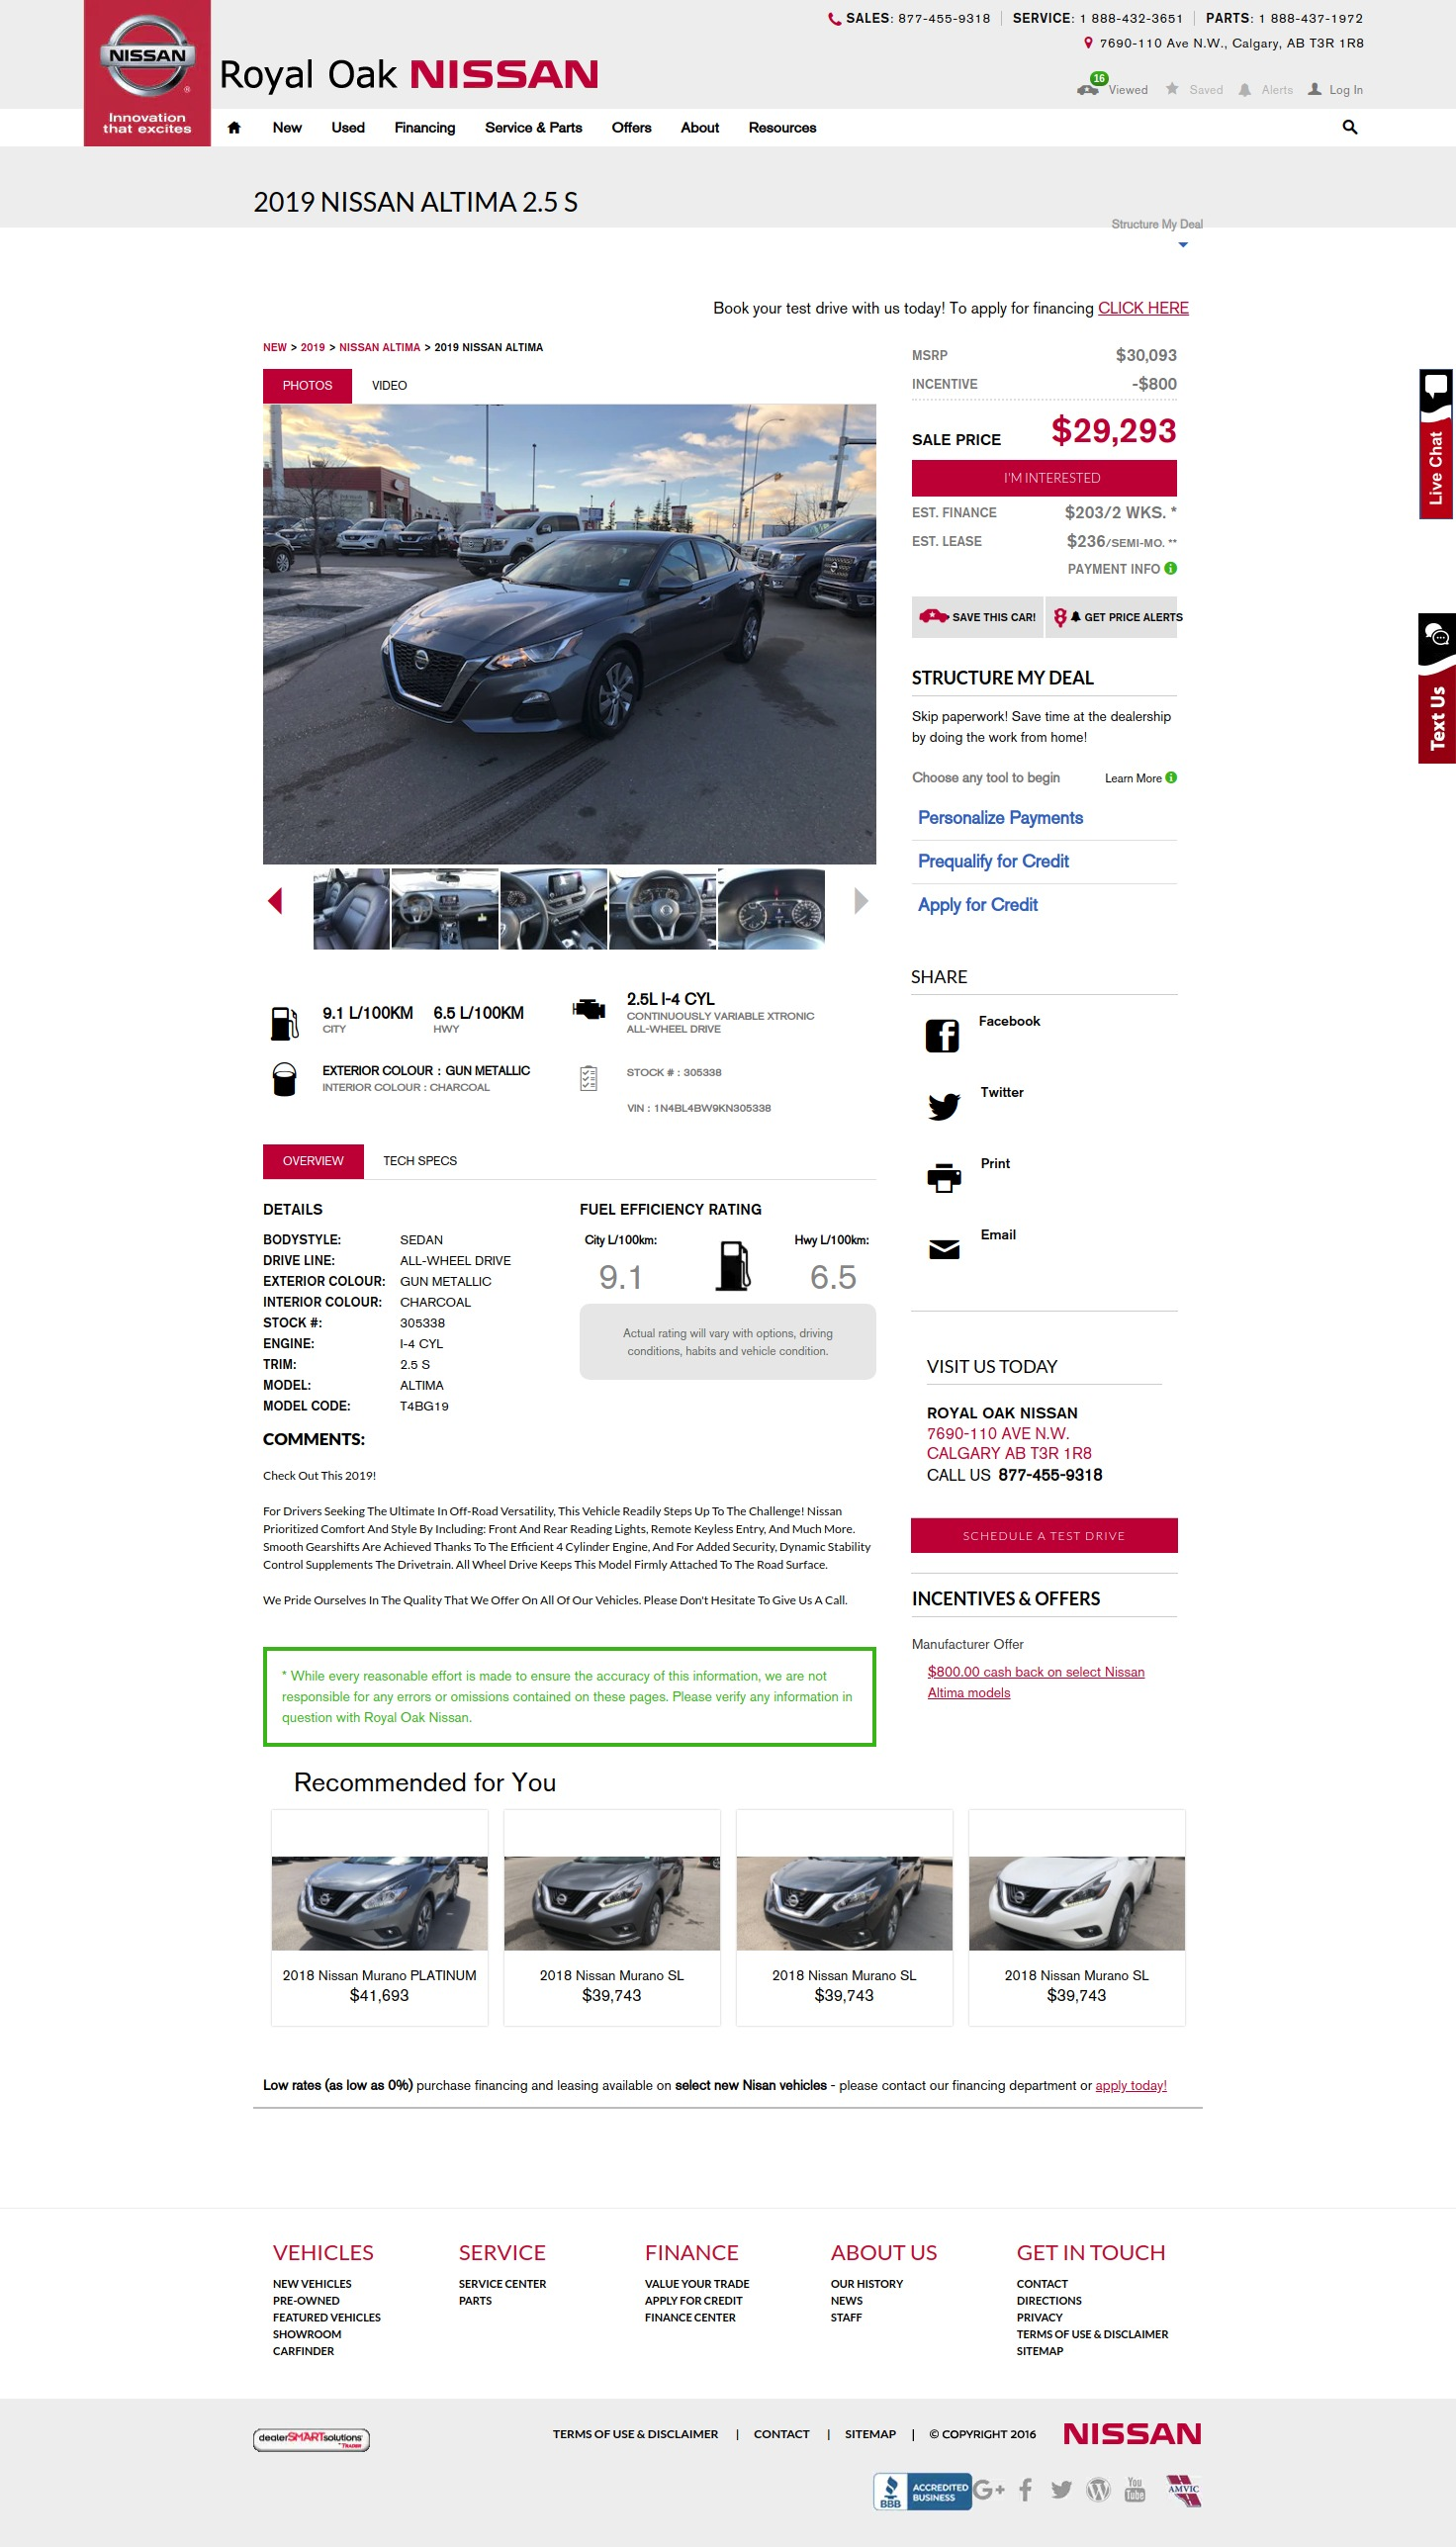car: (854, 887, 870, 917)
